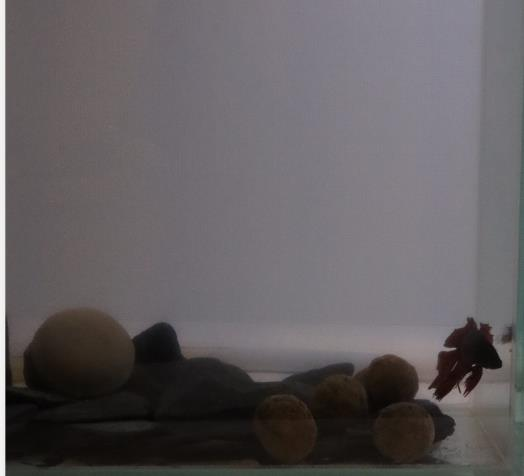fish: (428, 310, 504, 408)
